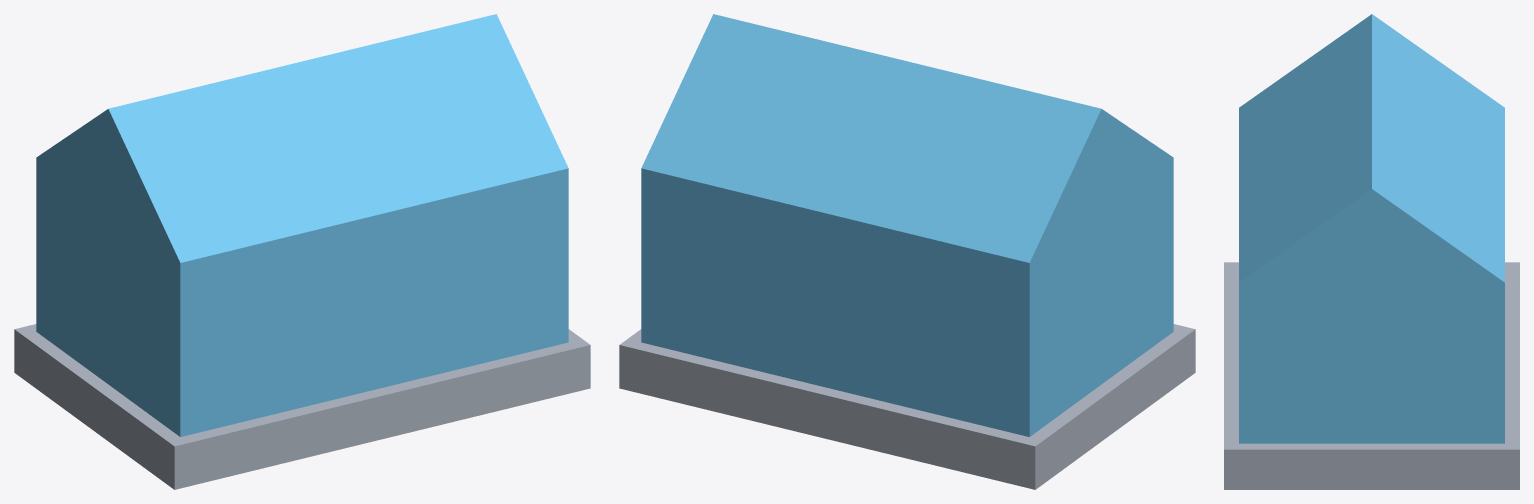
File: lunar-greenhouse.glb
The picture shows the model from 3 angles, left to right: view 1: azimuth 30°, elevation 25°; view 2: azimuth 150°, elevation 25°; view 3: azimuth 270°, elevation 25°; orthographic projection. The views are drawn at different scales.
Visible parts, largest first — view 1: greenhouse; view 2: greenhouse; view 3: greenhouse.
Part boxes in pixels (x1,y1,x2,y2): greenhouse: [14, 14, 590, 489]; greenhouse: [619, 14, 1195, 489]; greenhouse: [1224, 14, 1519, 489].
Size of the model in its own units: 3 by 2.2 by 2.
